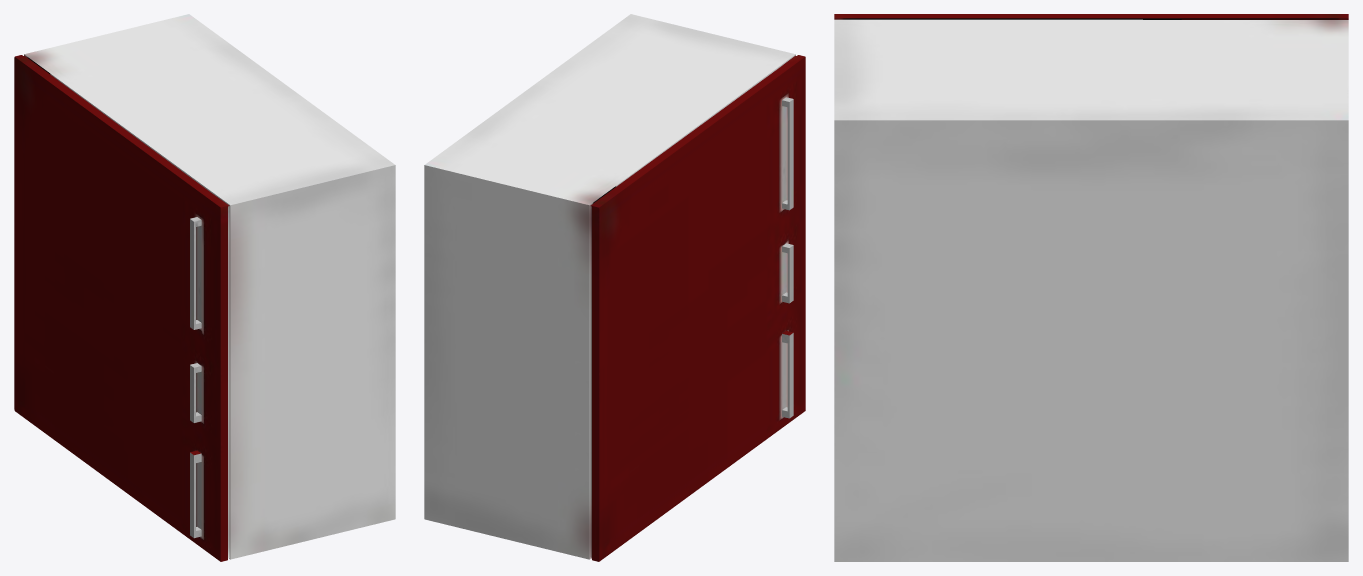
The model's file is mobile cucina.FBX.
3 renders of one model, left to right at view 1: azimuth 30°, elevation 25°; view 2: azimuth 150°, elevation 25°; view 3: azimuth 270°, elevation 25°, orthographic. The views are drawn at different scales.
Parts seen in each view (by area): view 1: parte a destra cucina; view 2: parte a destra cucina; view 3: parte a destra cucina.
Boxes of the visible parts, x1,y1,x2,y2 form: parte a destra cucina: (14,14,395,561); parte a destra cucina: (424,14,805,561); parte a destra cucina: (834,14,1348,561).
Size of the model in its own units: 0.4844 by 0.9 by 0.95.
